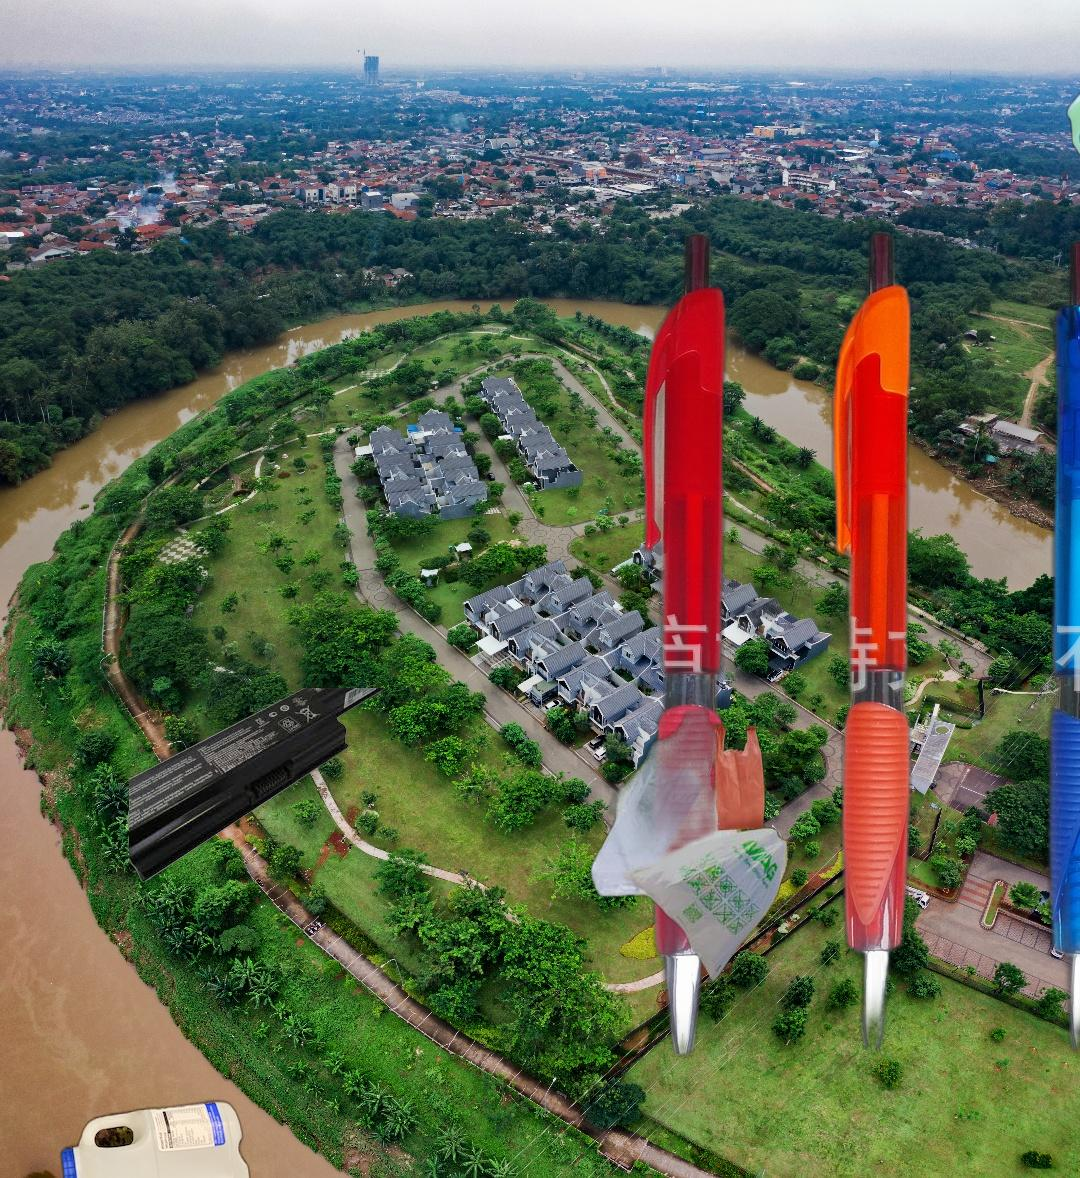battery: (129, 688, 387, 883)
metal-cans: (1062, 57, 1080, 273)
penholder: (632, 205, 1080, 1073)
plastic-bag: (584, 696, 804, 986)
plastic-bottles: (57, 1094, 254, 1178)
